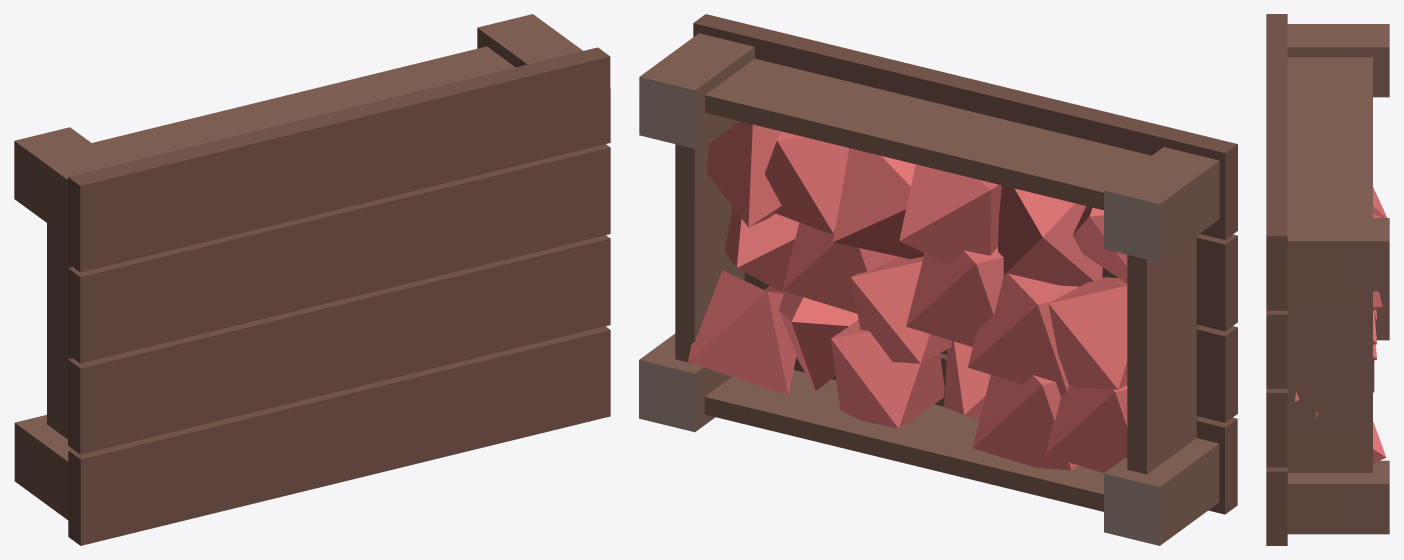
3 renders of one model, left to right at view 1: azimuth 30°, elevation 25°; view 2: azimuth 150°, elevation 25°; view 3: azimuth 270°, elevation 25°, orthographic. The views are drawn at different scales.
Parts seen in each view (by area): view 1: box_003.001; view 2: box_003.001; view 3: box_003.001.
Part boxes in pixels (x1=…): box_003.001: x1=14, y1=14, x2=610, y2=545; box_003.001: x1=639, y1=14, x2=1237, y2=545; box_003.001: x1=1266, y1=14, x2=1389, y2=545.
Bounding box in the file's own units: 0.7133 × 0.4631 × 0.1673.
Materials: 1 (1 with a texture image).
